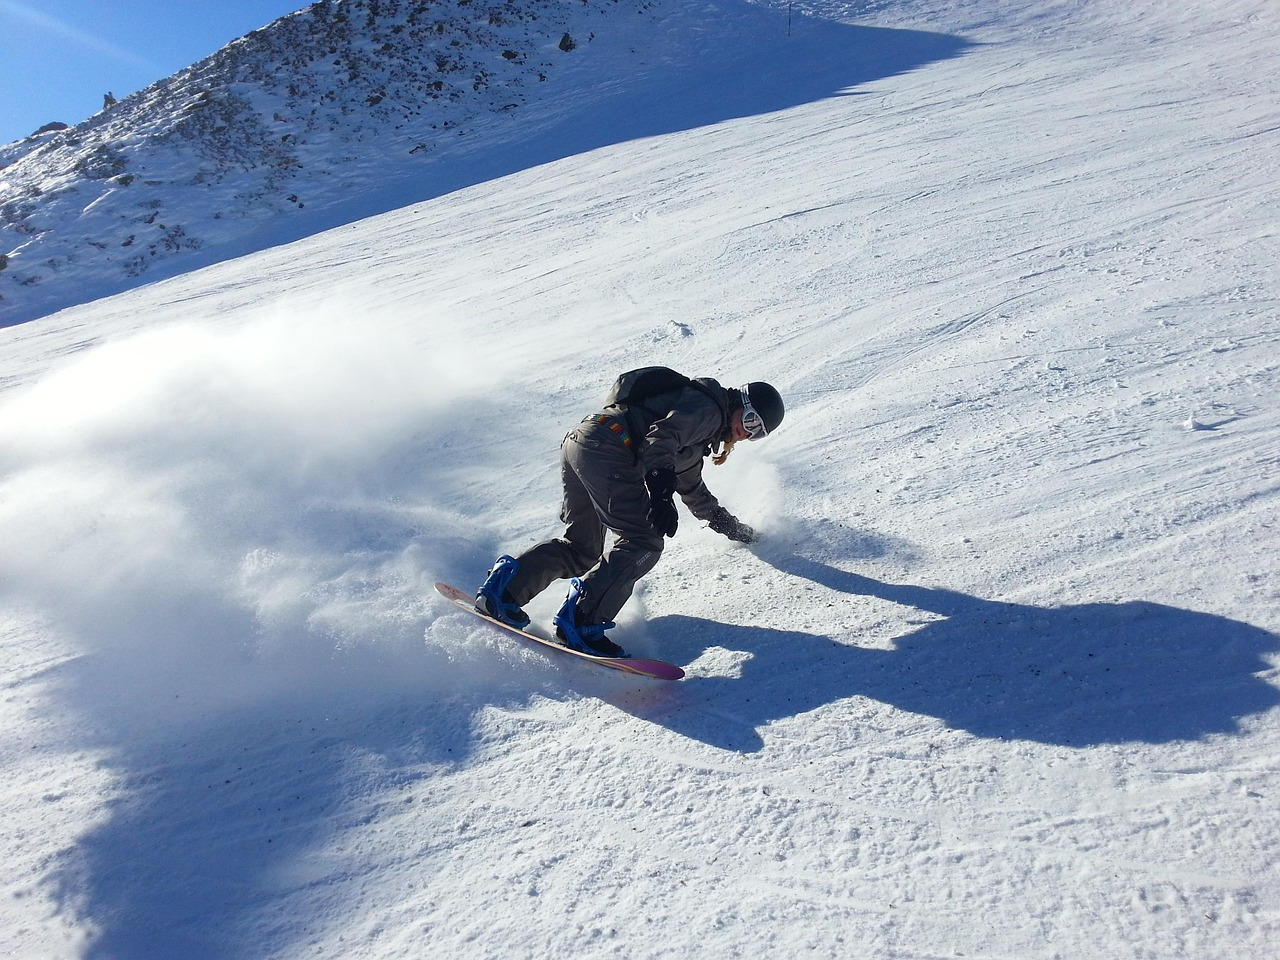snowboarder: (426, 310, 817, 727)
